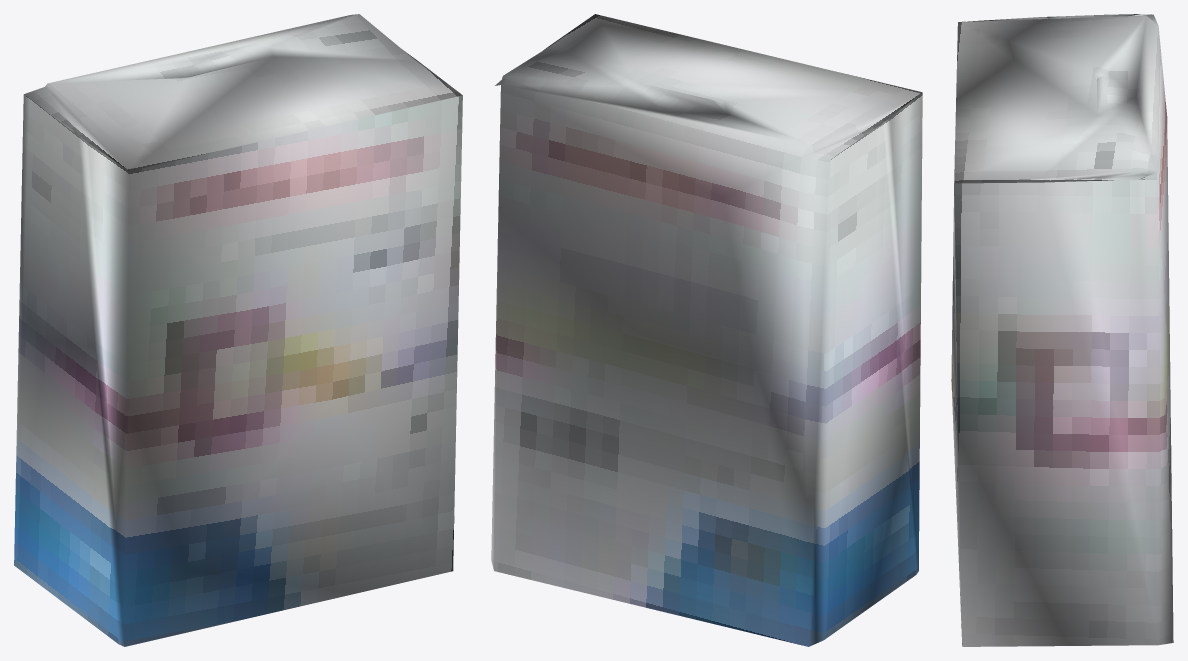
The model's file is Office_Depot_HP_61Tricolor_Ink_Cartridge-low.glb.
3 views of the same model, side by side, from view 1: azimuth 30°, elevation 25°; view 2: azimuth 150°, elevation 25°; view 3: azimuth 270°, elevation 25° (orthographic). The views are drawn at different scales.
Visible parts, largest first — view 1: Office_Depot_HP_61Tricolor_Ink_Cartridge; view 2: Office_Depot_HP_61Tricolor_Ink_Cartridge; view 3: Office_Depot_HP_61Tricolor_Ink_Cartridge.
Boxes of the visible parts, left/top/right/bottom form: Office_Depot_HP_61Tricolor_Ink_Cartridge: left=14, top=14, right=462, bottom=646; Office_Depot_HP_61Tricolor_Ink_Cartridge: left=491, top=14, right=922, bottom=646; Office_Depot_HP_61Tricolor_Ink_Cartridge: left=951, top=14, right=1173, bottom=646.
Bounding box in the file's own units: 0.0844 × 0.1173 × 0.0489.
1 material, 1 textured.
